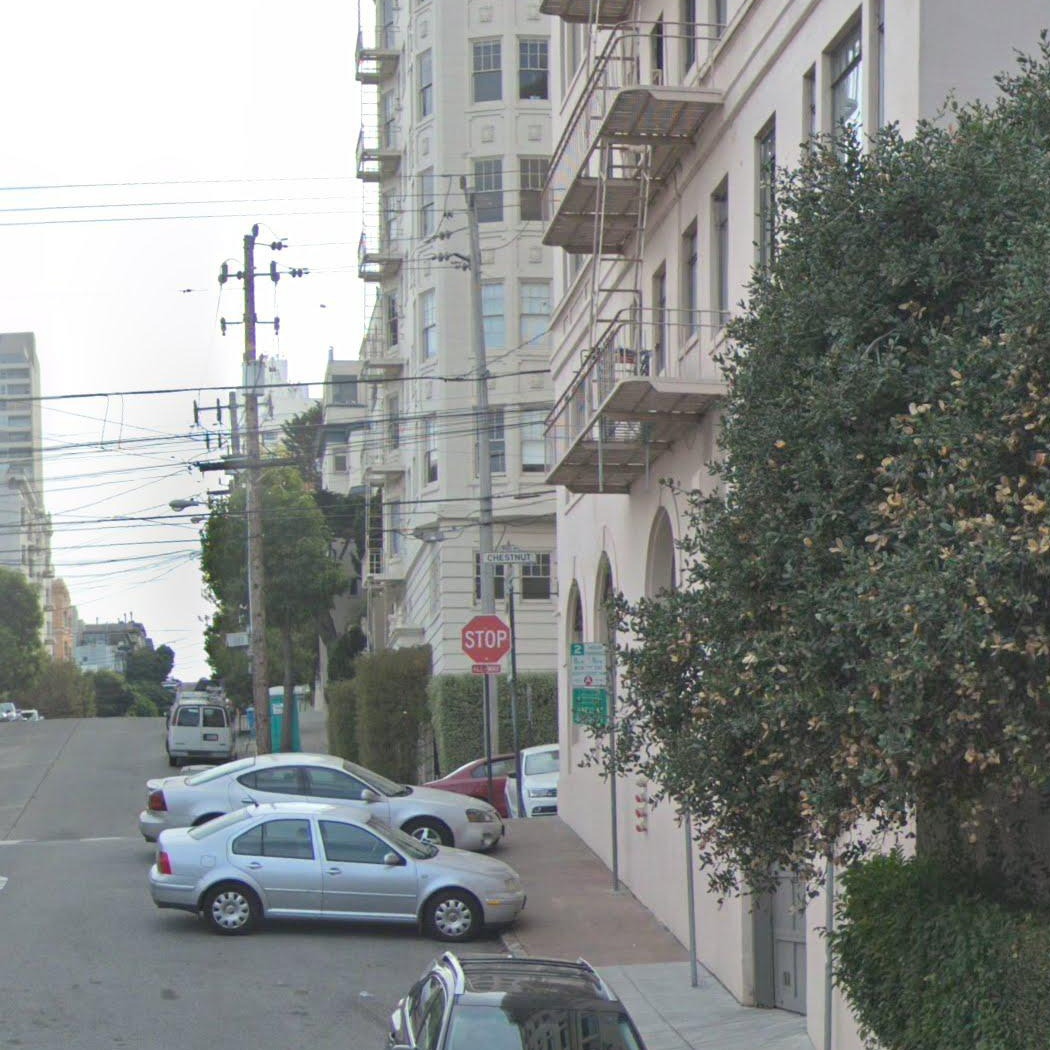2 Hour Parking: (569, 641, 609, 688)
